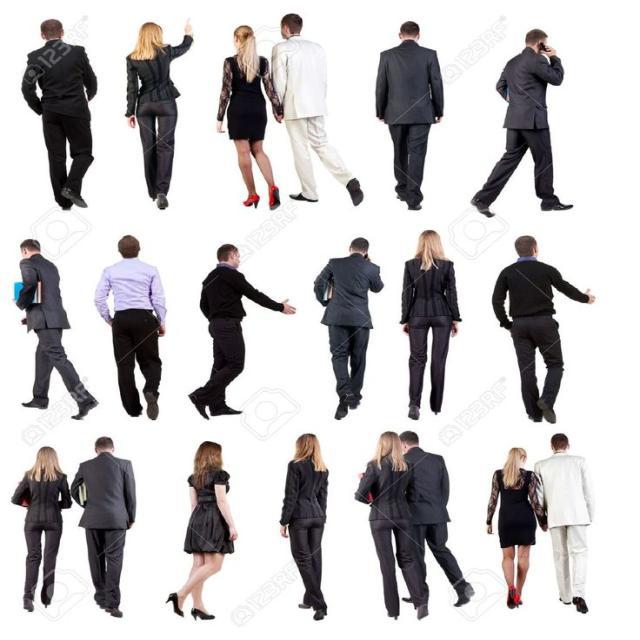person: (491, 234, 596, 423), (469, 29, 574, 217), (187, 243, 296, 420), (270, 13, 364, 206), (14, 238, 98, 420), (21, 18, 97, 210), (354, 430, 429, 620), (93, 234, 167, 420), (398, 430, 475, 607), (124, 18, 194, 210), (165, 441, 238, 620), (313, 237, 384, 420), (375, 21, 443, 210), (215, 25, 282, 209), (399, 229, 462, 420), (70, 436, 136, 617), (529, 432, 594, 614), (10, 446, 72, 612), (485, 446, 546, 609), (278, 434, 329, 620)
